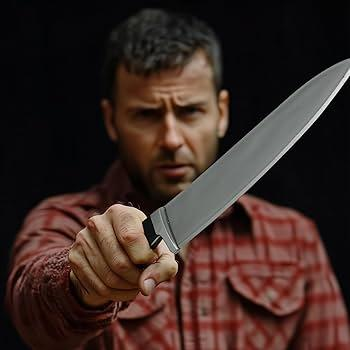Knife: (0, 10, 350, 350), (154, 55, 349, 243), (67, 204, 179, 310)
